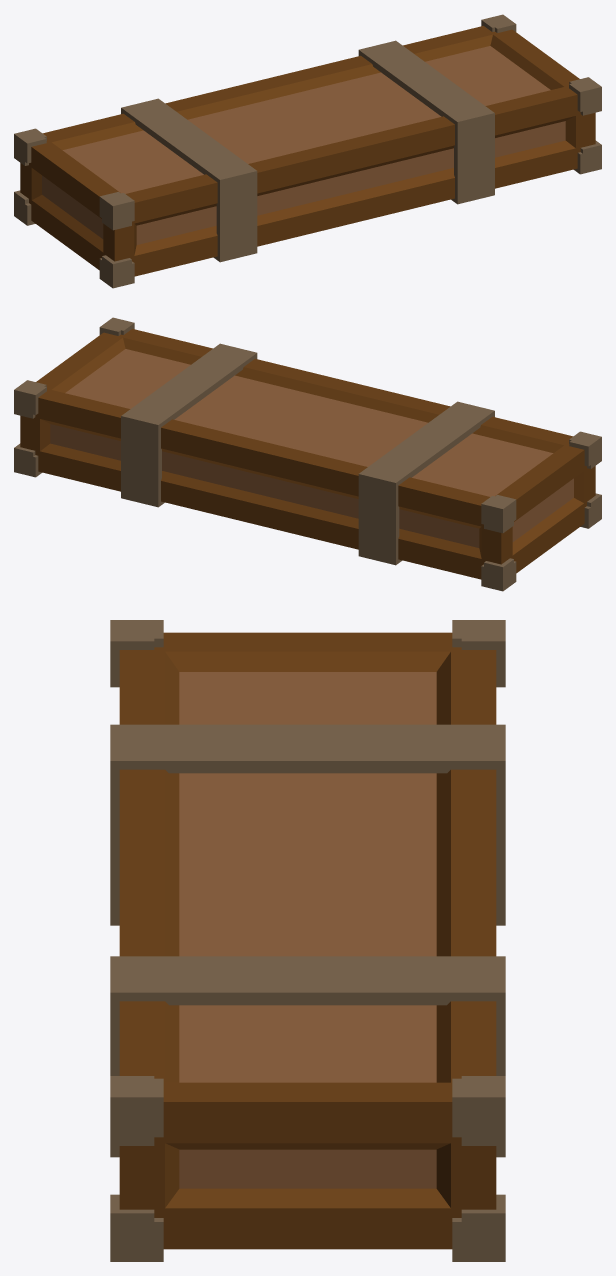
File: LongGrate.fbx
The picture shows the model from 3 angles, top to bottom: view 1: azimuth 30°, elevation 25°; view 2: azimuth 150°, elevation 25°; view 3: azimuth 270°, elevation 25°; orthographic projection. The views are drawn at different scales.
Visible parts, largest first — view 1: LongGrate; view 2: LongGrate; view 3: LongGrate.
Boxes of the visible parts, x1=… form: LongGrate: x1=14, y1=14, x2=601, y2=288; LongGrate: x1=14, y1=317, x2=601, y2=591; LongGrate: x1=110, y1=620, x2=505, y2=1261.
Bounding box in the file's own units: 229 × 36.81 × 80.2.
